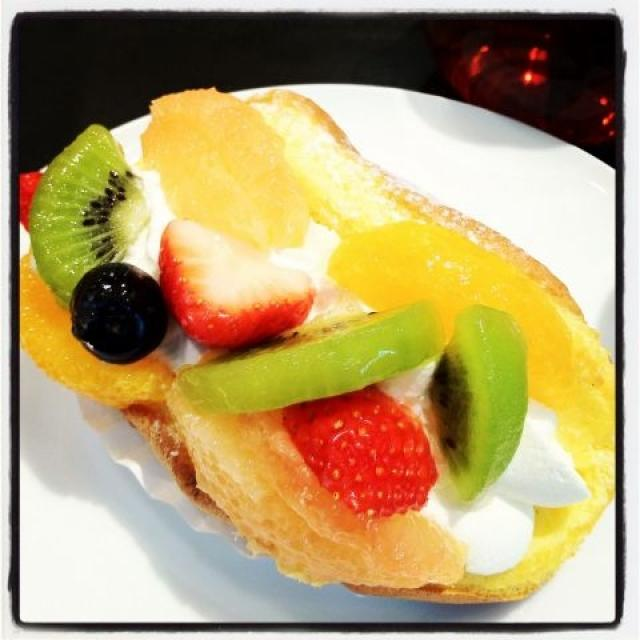蛋糕甜品: (21, 37, 604, 608)
